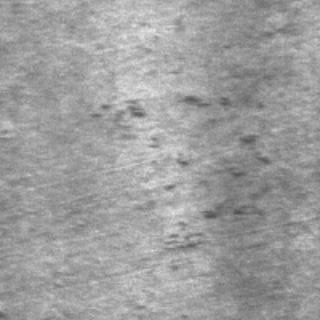rolled pit: (120, 88, 278, 252)
